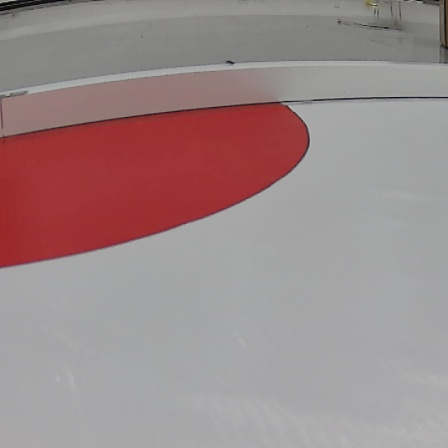red_base: (1, 100, 315, 271)
